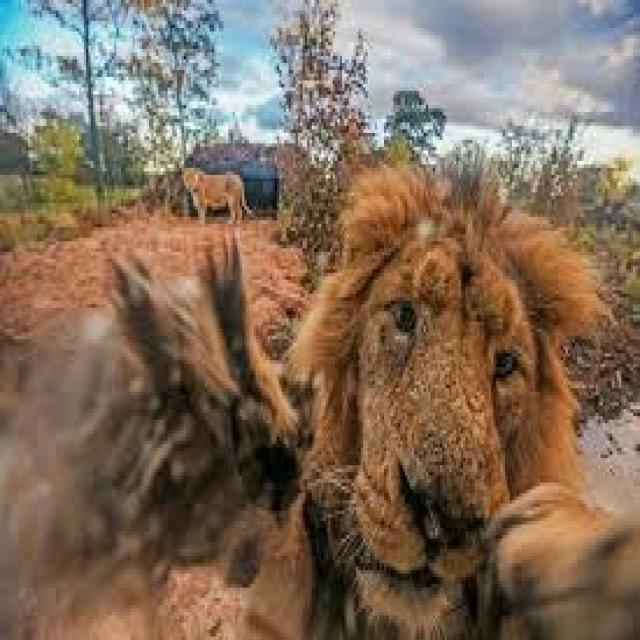Lion: (94, 147, 638, 637)
